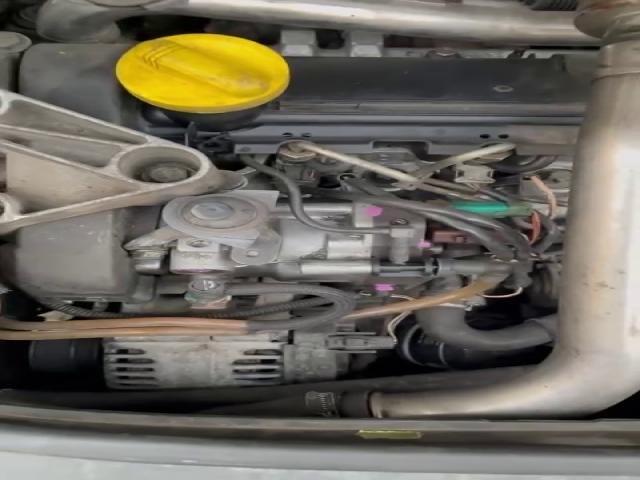alternator: (104, 333, 285, 389)
high_pressure_pump: (161, 202, 512, 292)
